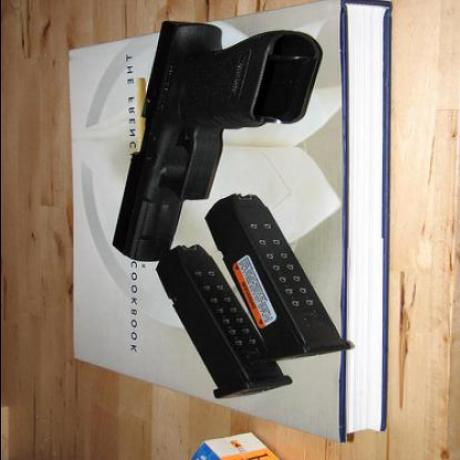weapon: (107, 13, 322, 266)
